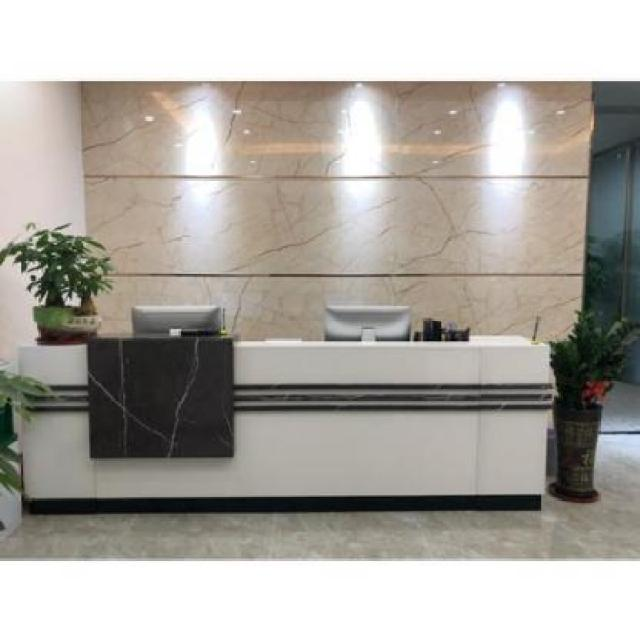frontdesk: (0, 318, 558, 514)
